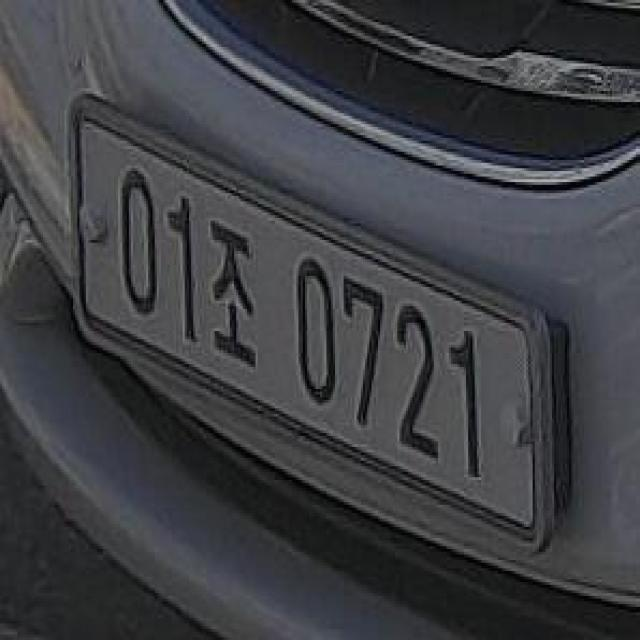illegal_plate: (68, 93, 551, 562)
